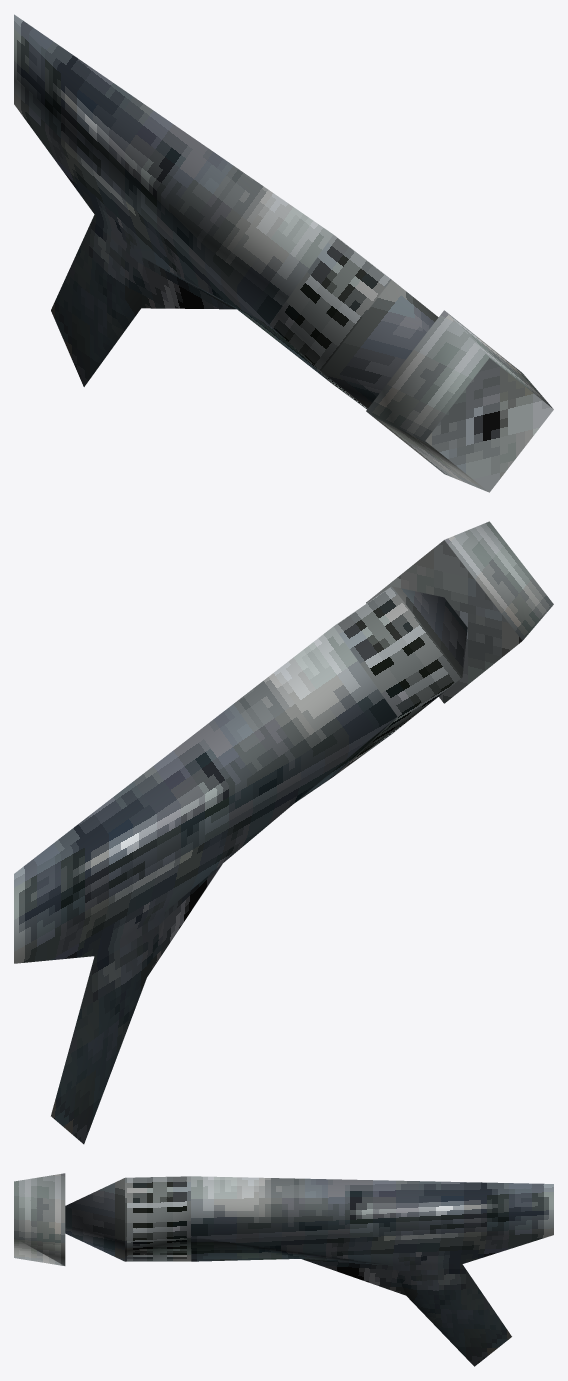
File: wp_pistol_renegade_l2.fbx
The picture shows the model from 3 angles, top to bottom: view 1: azimuth 30°, elevation 25°; view 2: azimuth 150°, elevation 25°; view 3: azimuth 270°, elevation 25°; orthographic projection. The views are drawn at different scales.
Parts seen in each view (by area): view 1: mesh_node; view 2: mesh_node; view 3: mesh_node.
Part boxes in pixels (x1,y1,x2,y2): mesh_node: (14, 14, 553, 492); mesh_node: (14, 521, 553, 1144); mesh_node: (14, 1173, 553, 1366).
Size of the model in its own units: 0.0723 by 0.1503 by 0.3799.
Materials: 1 (1 with a texture image).
